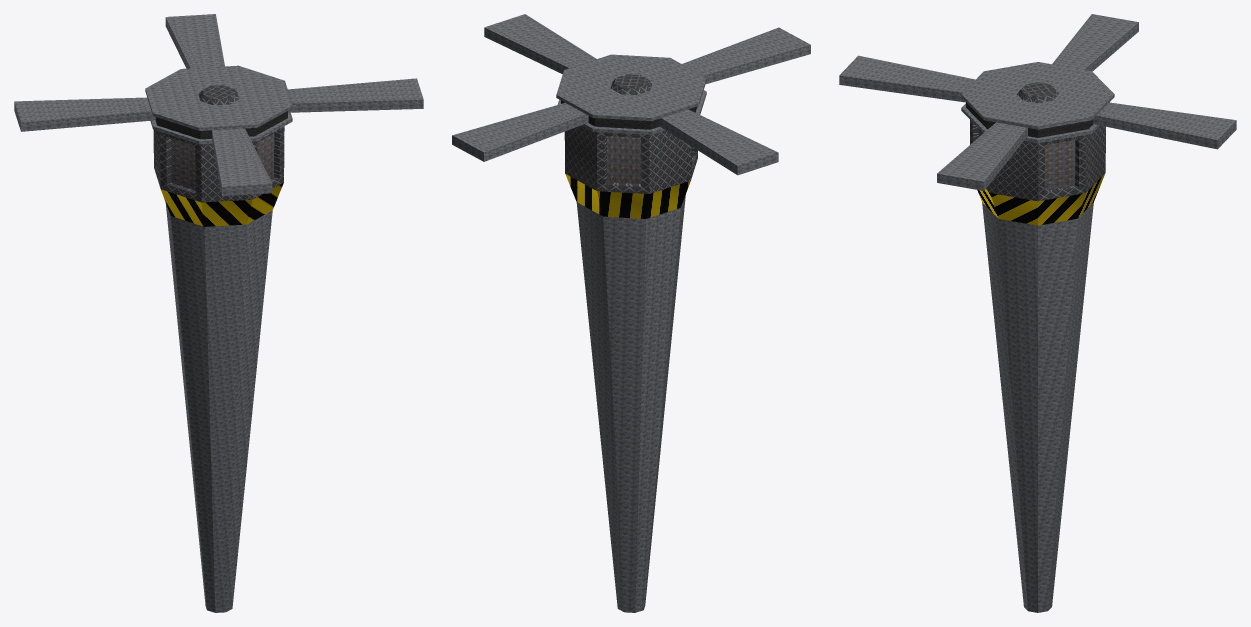
The model's file is Fan.fbx.
The picture shows the model from 3 angles, left to right: view 1: azimuth 30°, elevation 25°; view 2: azimuth 150°, elevation 25°; view 3: azimuth 270°, elevation 25°; orthographic projection. The views are drawn at different scales.
Parts seen in each view (by area): view 1: Fan, Blade_2.008, Blade.006; view 2: Fan, Blade.006, Blade_2.008; view 3: Fan, Blade.006, Blade_2.008.
Part boxes in pixels (x1=…): Fan: x1=145, y1=65, x2=292, y2=612; Blade_2.008: x1=14, y1=78, x2=423, y2=131; Blade.006: x1=165, y1=14, x2=272, y2=196; Fan: x1=556, y1=54, x2=706, y2=612; Blade.006: x1=452, y1=27, x2=810, y2=161; Blade_2.008: x1=484, y1=14, x2=778, y2=175; Fan: x1=961, y1=62, x2=1114, y2=612; Blade.006: x1=839, y1=55, x2=1236, y2=149; Blade_2.008: x1=937, y1=14, x2=1138, y2=190.
Size of the model in its own units: 3891 by 5595 by 3896.
